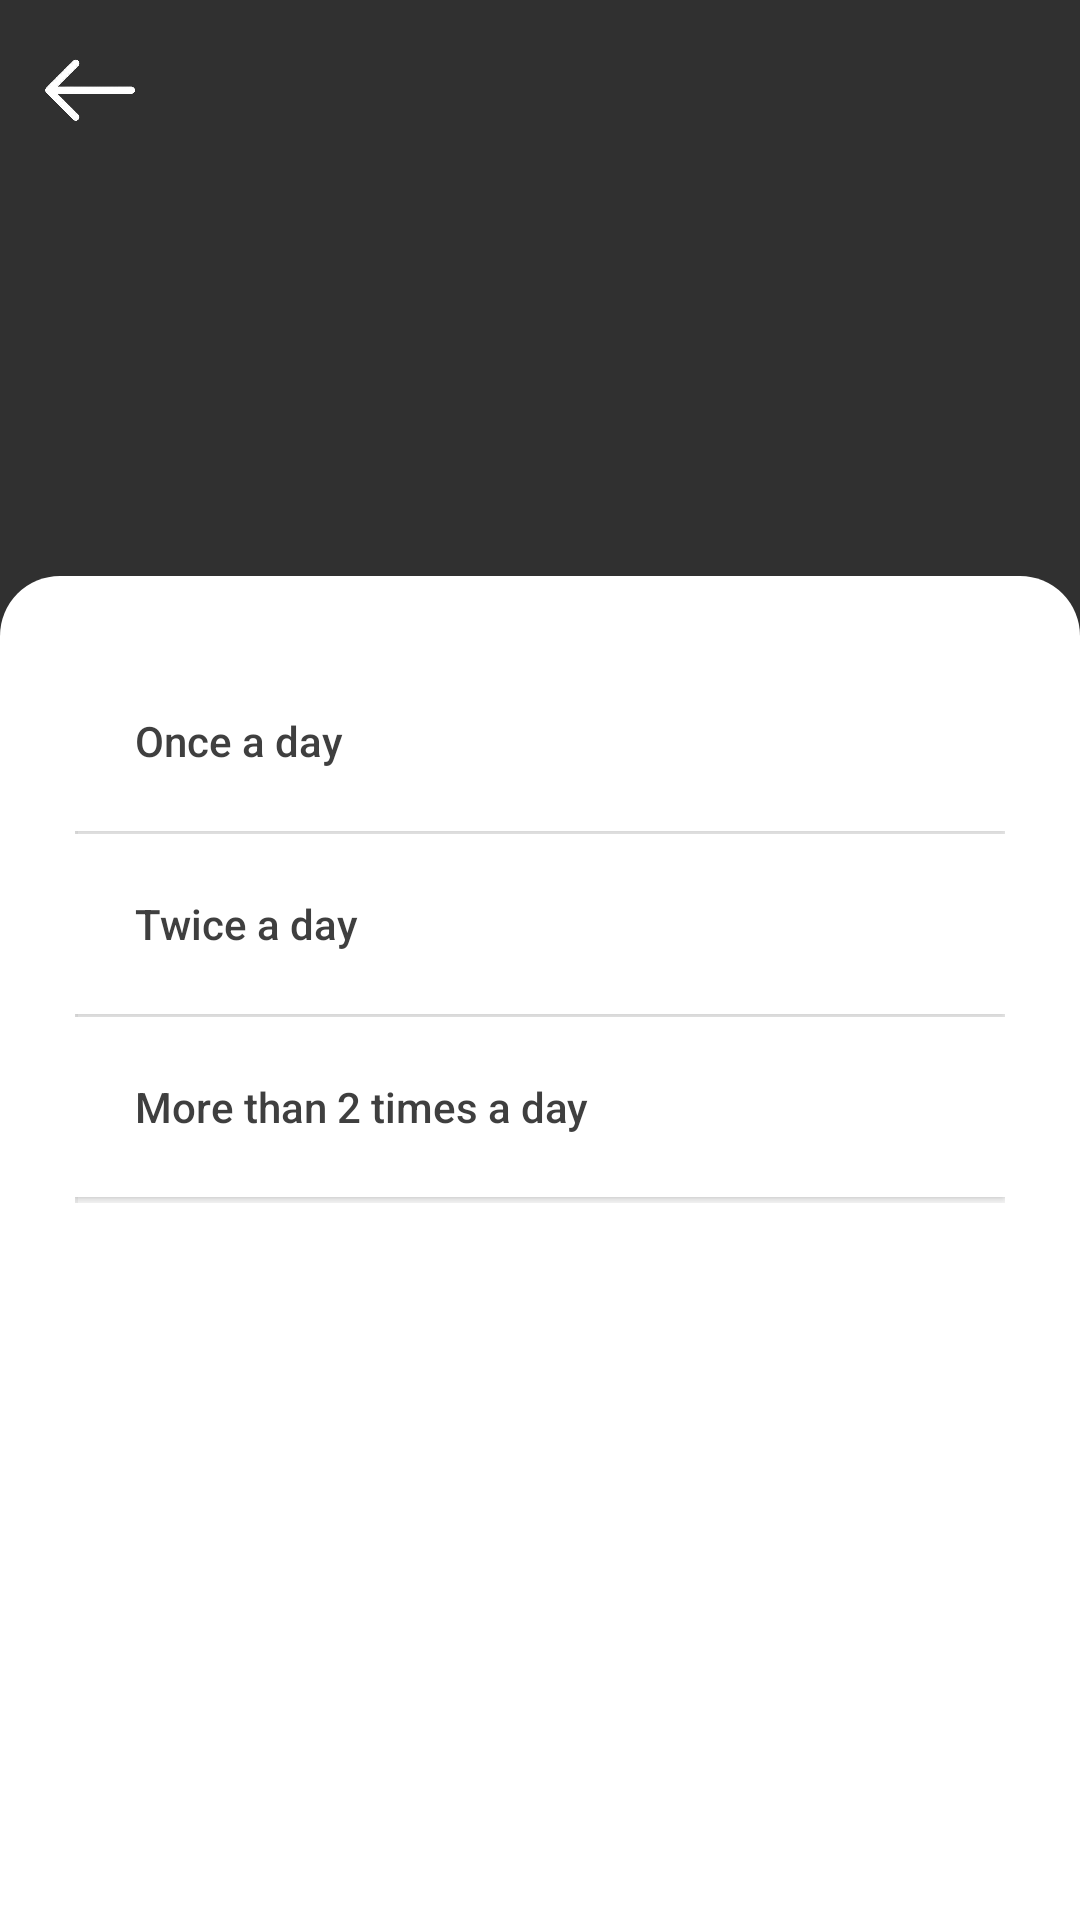

Locate icon controls on the screen. Image size 1080 × 1920, boxes as (x1, y1, x2, y2).
back: (45, 59, 135, 121)
